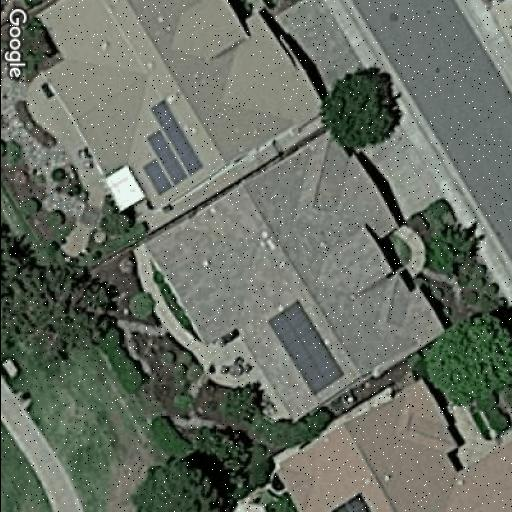solar-panel: (266, 298, 346, 398), (141, 96, 204, 198), (320, 489, 382, 512)
